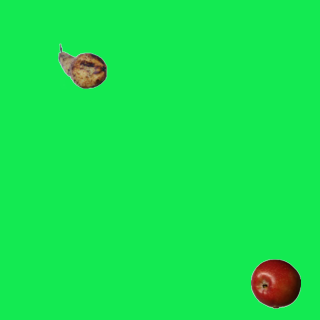Apple Braeburn: (250, 258, 300, 308)
Pear Abate: (57, 41, 107, 91)
